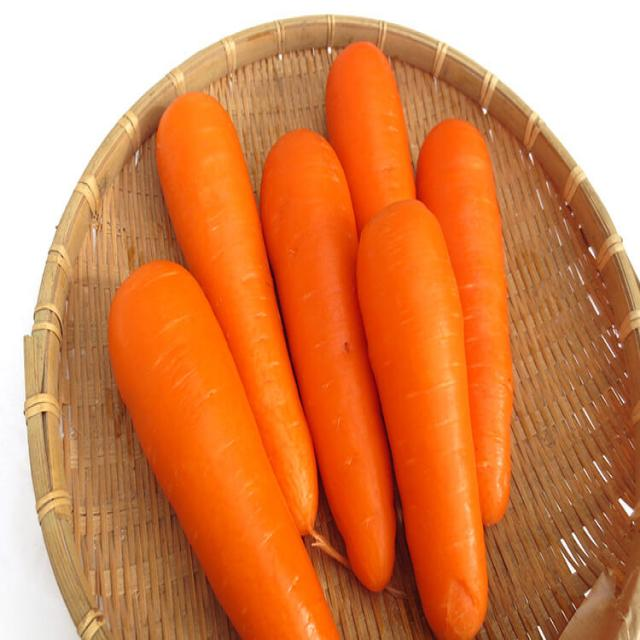Fresh_Carrot: (151, 92, 313, 563), (382, 188, 479, 640), (416, 103, 509, 527)
